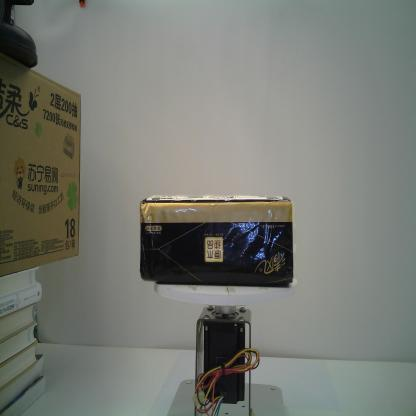Tissue: (137, 194, 296, 285)
